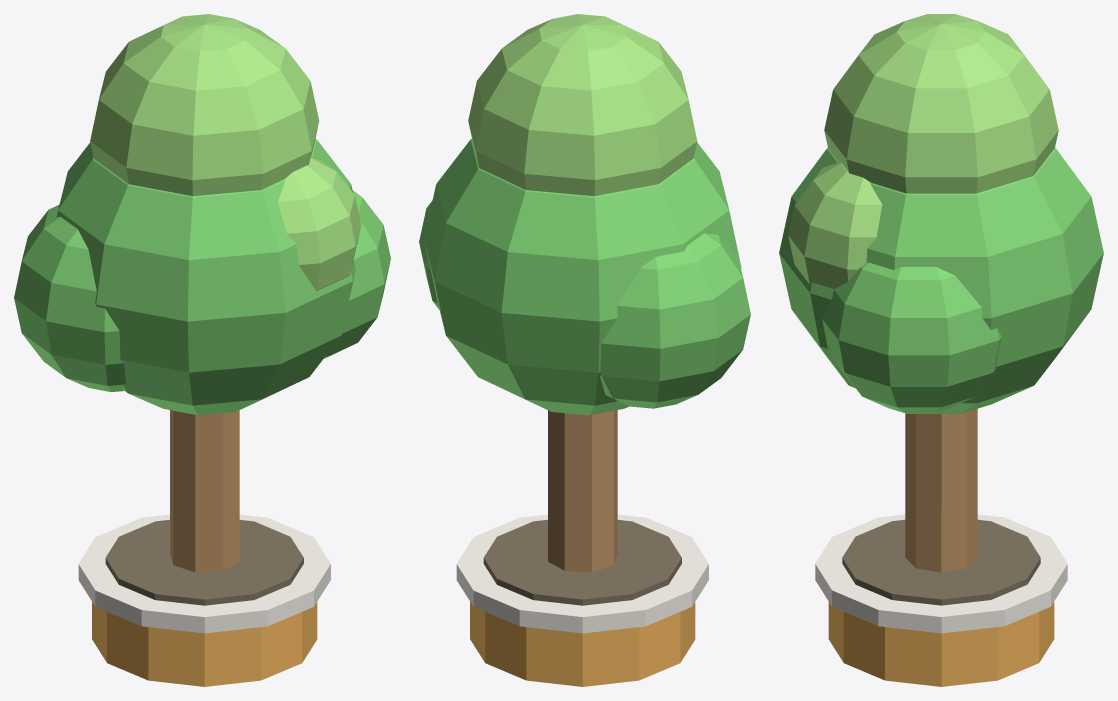
Rendered from tree.fbx.
3 views of the same model, side by side, from view 1: azimuth 30°, elevation 25°; view 2: azimuth 150°, elevation 25°; view 3: azimuth 270°, elevation 25° (orthographic).
Visible parts, largest first — view 1: Crown, CrownHigh, CrownL, Pot, Trunk, PotRim, Soil, CrownFront, CrownR; view 2: Crown, CrownHigh, CrownL, Pot, Trunk, PotRim, Soil, CrownR; view 3: Crown, CrownHigh, CrownR, Pot, Trunk, PotRim, Soil, CrownFront.
Boxes of the visible parts, <box> form: Crown: <box>56,138,355,415</box>; CrownHigh: <box>90,14,319,196</box>; CrownL: <box>14,204,125,392</box>; Pot: <box>92,602,317,686</box>; Trunk: <box>170,410,239,572</box>; PotRim: <box>78,514,330,633</box>; Soil: <box>105,519,303,605</box>; CrownFront: <box>278,157,361,290</box>; CrownR: <box>324,190,390,358</box>; Crown: <box>424,138,741,415</box>; CrownHigh: <box>468,14,697,196</box>; CrownL: <box>599,233,750,408</box>; Pot: <box>470,602,695,686</box>; Trunk: <box>548,410,617,572</box>; PotRim: <box>456,514,708,633</box>; Soil: <box>483,519,681,605</box>; CrownR: <box>419,200,439,309</box>; Crown: <box>779,147,1103,413</box>; CrownHigh: <box>824,14,1058,193</box>; CrownR: <box>822,262,1001,413</box>; Pot: <box>828,602,1054,686</box>; Trunk: <box>905,409,977,572</box>; PotRim: <box>815,514,1067,633</box>; Soil: <box>842,519,1040,605</box>; CrownFront: <box>788,162,882,288</box>.
Bounding box in the file's own units: 166 × 301 × 144.
